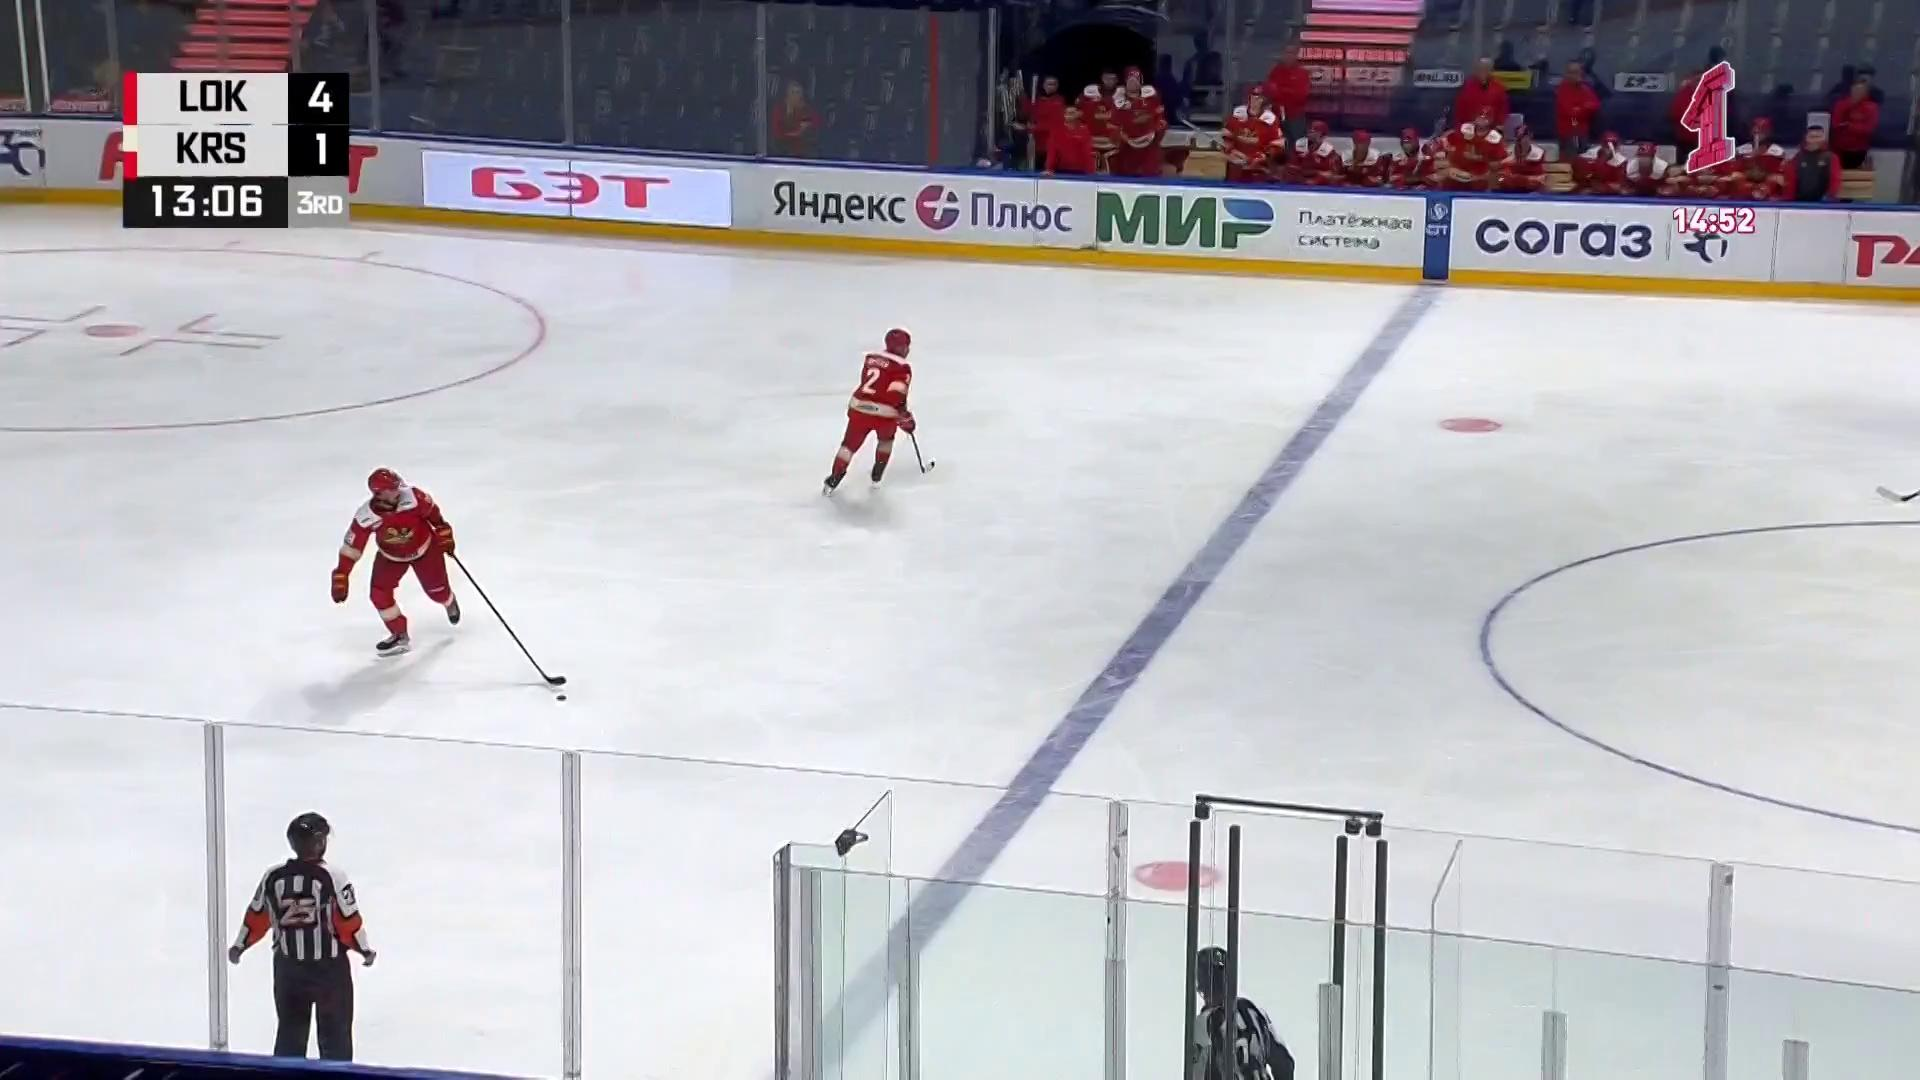ball: (555, 695, 567, 702)
